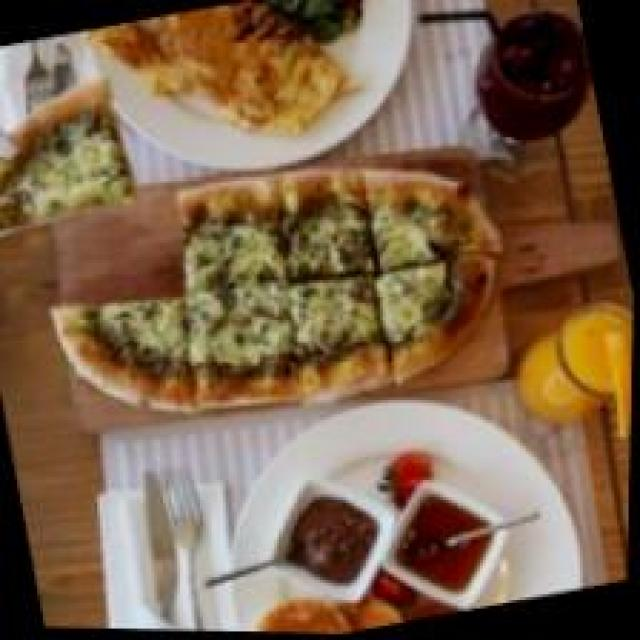Pancakes: (238, 561, 413, 636)
